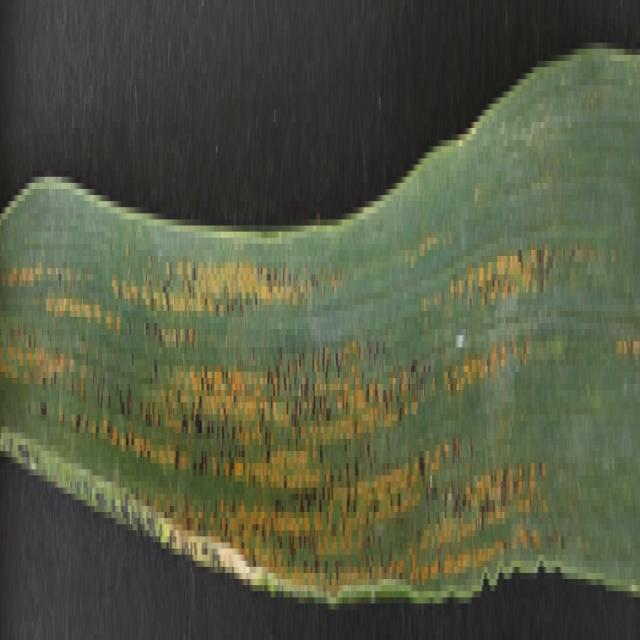leaf rust: (6, 177, 565, 579)
